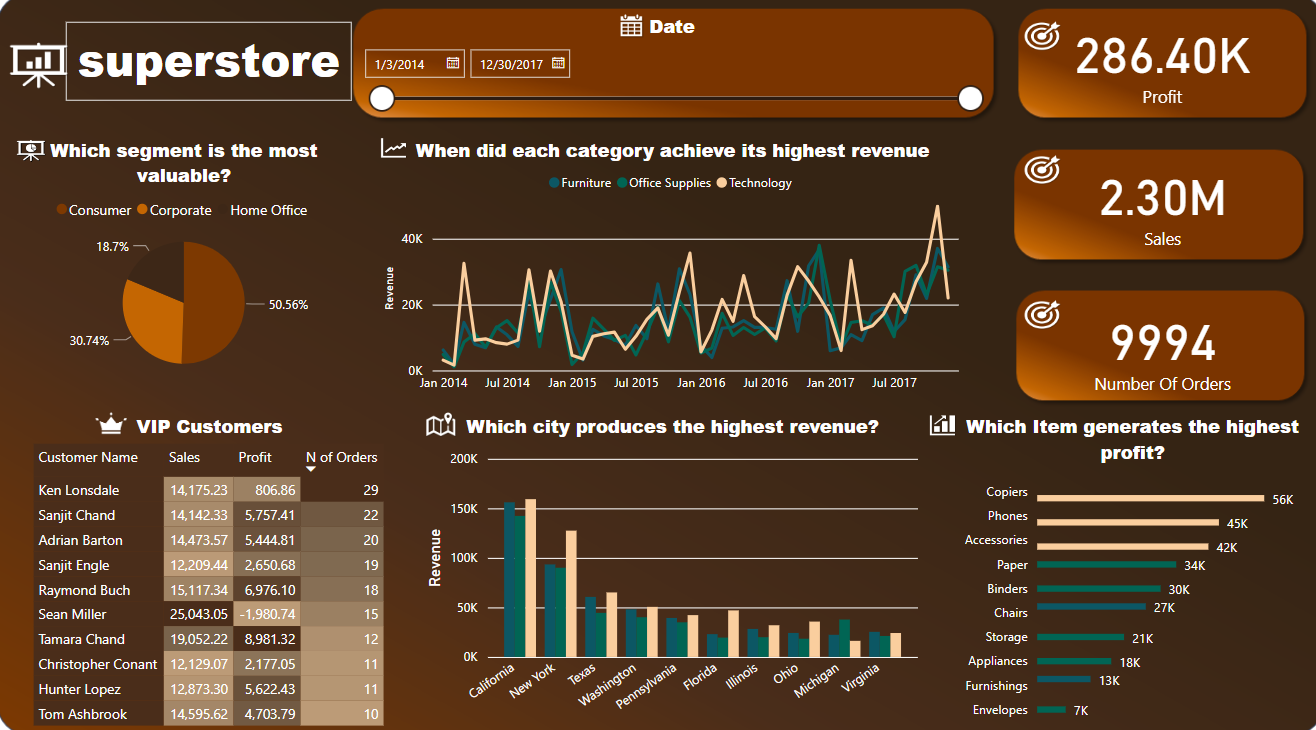

What the dashboard file says about the page in this screenshot:
{"tool":"powerbi","page":{"name":"Super Store","canvas":[1280,720],"ordinal":0},"visuals":[{"type":"lineChart","title":"When did each category achieve its highest revenue","fields":{"Series":["Sample - Superstore.Category"],"Category":["Sample - Superstore.Order Date.Variation.Date Hierarchy.Year","Sample - Superstore.Order Date.Variation.Date Hierarchy.Month"],"Y":["Sample - Superstore.Sales"]},"box":[367.8,143.5,568,255.7],"z":0},{"type":"tableEx","title":"VIP Customers","fields":{"Values":["Sample - Superstore.Customer Name","Sample - Superstore.Sales","Sample - Superstore.Profit","Sample - Superstore.Order ID"]},"box":[28.9,410.1,352.2,309.9],"z":1000},{"type":"clusteredBarChart","title":"Which Item generates the highest profit?","fields":{"Category":["Sample - Superstore.Sub-Category"],"Y":["Sample - Superstore.Profit"],"Series":["Sample - Superstore.Category"]},"box":[923.8,410.1,343.7,309.9],"z":2000},{"type":"pieChart","title":"Which segment is the most valuable?","fields":{"Category":["Sample - Superstore.Segment"],"Y":["Sample - Superstore.Sales"]},"box":[18.1,143.5,324.4,241.2],"z":3000},{"type":"textbox","box":[66.3,32.6,276.2,76],"z":4000},{"type":"slicer","title":"Date","fields":{"Values":["Sample - Superstore.Order Date"]},"box":[342.9,24.1,617.5,100.1],"z":5000},{"type":"card","fields":{"Values":["Sample - Superstore.Profit"]},"box":[981.7,15.7,285.8,108.5],"z":6000},{"type":"card","fields":{"Values":["Sample - Superstore.Sales"]},"box":[981.2,153.8,286.2,107.5],"z":7000},{"type":"card","fields":{"Values":["Sample - Superstore.Order ID"]},"box":[981.2,292.5,286.2,107.5],"z":8000},{"type":"clusteredColumnChart","title":"Which city produces the highest revenue?","fields":{"Y":["Sample - Superstore.Sales"],"Category":["Sample - Superstore.State"],"Series":["Sample - Superstore.Category"]},"box":[410.1,410.1,483.6,309.9],"z":9000},{"type":"image","box":[0,36.2,82,78.4],"z":10000},{"type":"image","box":[88,398,44.6,44.6],"z":11000},{"type":"image","box":[360.6,132.7,44.6,44.6],"z":12000},{"type":"image","box":[890.1,402.8,44.6,38.6],"z":13000},{"type":"image","box":[981.7,24.1,55.5,45],"z":14000},{"type":"image","box":[981.7,153.2,55.5,45],"z":15000},{"type":"image","box":[981.7,293.1,55.5,45],"z":16000},{"type":"image","box":[406.4,399.2,44.6,44.6],"z":17000},{"type":"image","box":[591,15.7,43.4,42.2],"z":18000},{"type":"image","box":[10.9,135.1,44.6,44.6],"z":18001}]}

Visuals, with their boxes in screenshot pixels (x1, y1, x2, y2), scaled from the page's 1280x720 canvas onto the 1316x730 screenshot:
"When did each category achieve its highest revenue" lineChart: select_region(378, 145, 962, 405)
"VIP Customers" tableEx: select_region(30, 416, 392, 729)
"Which Item generates the highest profit?" clusteredBarChart: select_region(950, 416, 1303, 729)
"Which segment is the most valuable?" pieChart: select_region(19, 145, 352, 390)
textbox: select_region(68, 33, 352, 110)
"Date" slicer: select_region(353, 24, 987, 126)
card - Sample - Superstore.Profit: select_region(1009, 16, 1303, 126)
card - Sample - Superstore.Sales: select_region(1009, 156, 1303, 265)
card - Sample - Superstore.Order ID: select_region(1009, 297, 1303, 406)
"Which city produces the highest revenue?" clusteredColumnChart: select_region(422, 416, 919, 729)
image: select_region(0, 37, 84, 116)
image: select_region(90, 404, 136, 449)
image: select_region(371, 135, 417, 180)
image: select_region(915, 408, 961, 448)
image: select_region(1009, 24, 1066, 70)
image: select_region(1009, 155, 1066, 201)
image: select_region(1009, 297, 1066, 343)
image: select_region(418, 405, 464, 450)
image: select_region(608, 16, 652, 59)
image: select_region(11, 137, 57, 182)
